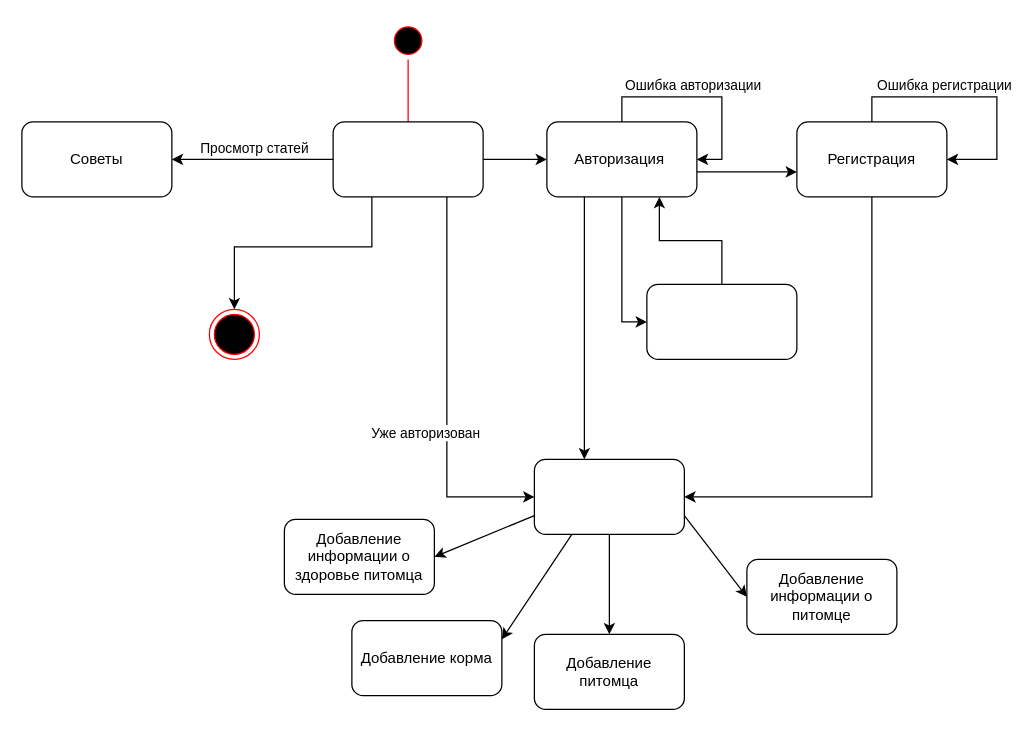
Image size: 1033x731. Some labels were removed from this diagram. The shapes that lost their labels are listed below. From the top down, each one's centre as x and y in pixels, then its label:
point (407, 159): Главная страница
point (721, 321): Восстановление пароля
point (608, 496): Аккаунт пользователя
